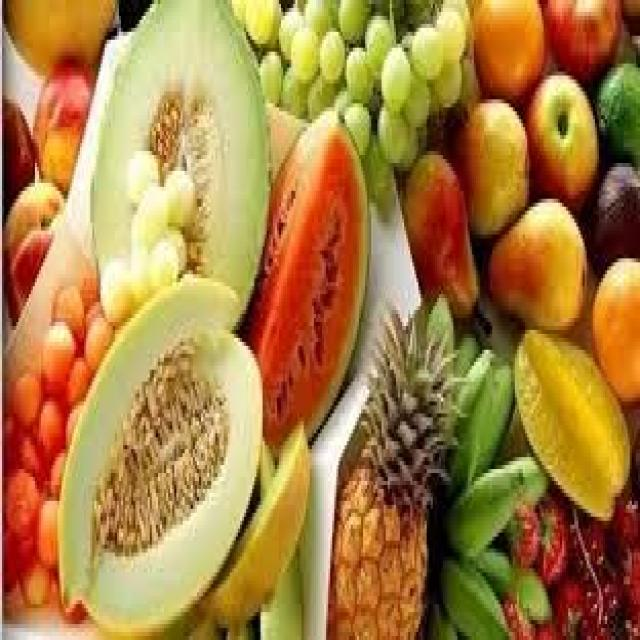organic waste: (55, 270, 238, 604), (90, 0, 269, 326), (78, 326, 260, 636), (240, 103, 369, 446), (510, 326, 628, 517), (197, 418, 306, 620), (359, 298, 453, 513), (326, 449, 423, 636), (398, 155, 486, 326), (482, 195, 583, 326), (447, 96, 527, 234), (525, 68, 597, 202), (256, 433, 302, 636), (0, 179, 66, 318), (31, 56, 94, 186), (0, 0, 113, 72), (469, 0, 543, 99), (447, 461, 521, 557), (591, 250, 638, 398), (468, 545, 554, 620), (447, 350, 492, 493), (437, 545, 502, 636), (540, 0, 618, 72), (591, 167, 638, 270), (595, 60, 638, 159), (476, 354, 513, 465), (0, 92, 33, 215), (536, 489, 566, 588), (96, 250, 134, 322), (568, 509, 605, 580), (134, 239, 178, 298), (584, 564, 618, 636), (2, 469, 39, 533), (129, 183, 164, 250), (506, 441, 544, 501), (160, 167, 197, 227), (222, 553, 248, 636), (125, 143, 158, 207), (16, 545, 49, 608), (287, 20, 322, 79), (376, 95, 408, 159), (552, 572, 582, 636), (432, 4, 466, 60), (365, 127, 390, 203), (41, 322, 72, 382), (12, 425, 45, 481), (617, 545, 638, 632), (240, 0, 281, 44), (363, 8, 388, 79), (378, 44, 406, 107), (150, 219, 182, 274), (343, 40, 369, 107), (51, 282, 82, 338), (425, 282, 449, 354), (408, 20, 441, 71), (8, 370, 41, 421), (507, 501, 535, 560), (66, 247, 96, 302), (502, 588, 536, 636), (53, 565, 82, 616), (35, 497, 57, 564), (35, 398, 63, 449), (306, 72, 336, 119), (58, 358, 88, 405), (80, 314, 109, 362), (611, 497, 636, 552), (318, 24, 343, 79), (343, 99, 369, 151), (396, 115, 420, 171), (277, 4, 304, 52), (334, 0, 368, 36), (451, 330, 472, 386), (302, 0, 341, 28), (0, 528, 18, 588), (258, 44, 279, 95), (429, 596, 455, 636), (431, 60, 457, 100), (277, 64, 301, 107), (402, 76, 427, 116), (41, 449, 66, 489), (459, 52, 478, 103), (2, 414, 21, 461), (628, 421, 638, 497), (617, 0, 638, 28), (531, 616, 556, 636), (439, 0, 464, 20), (228, 0, 248, 16)
